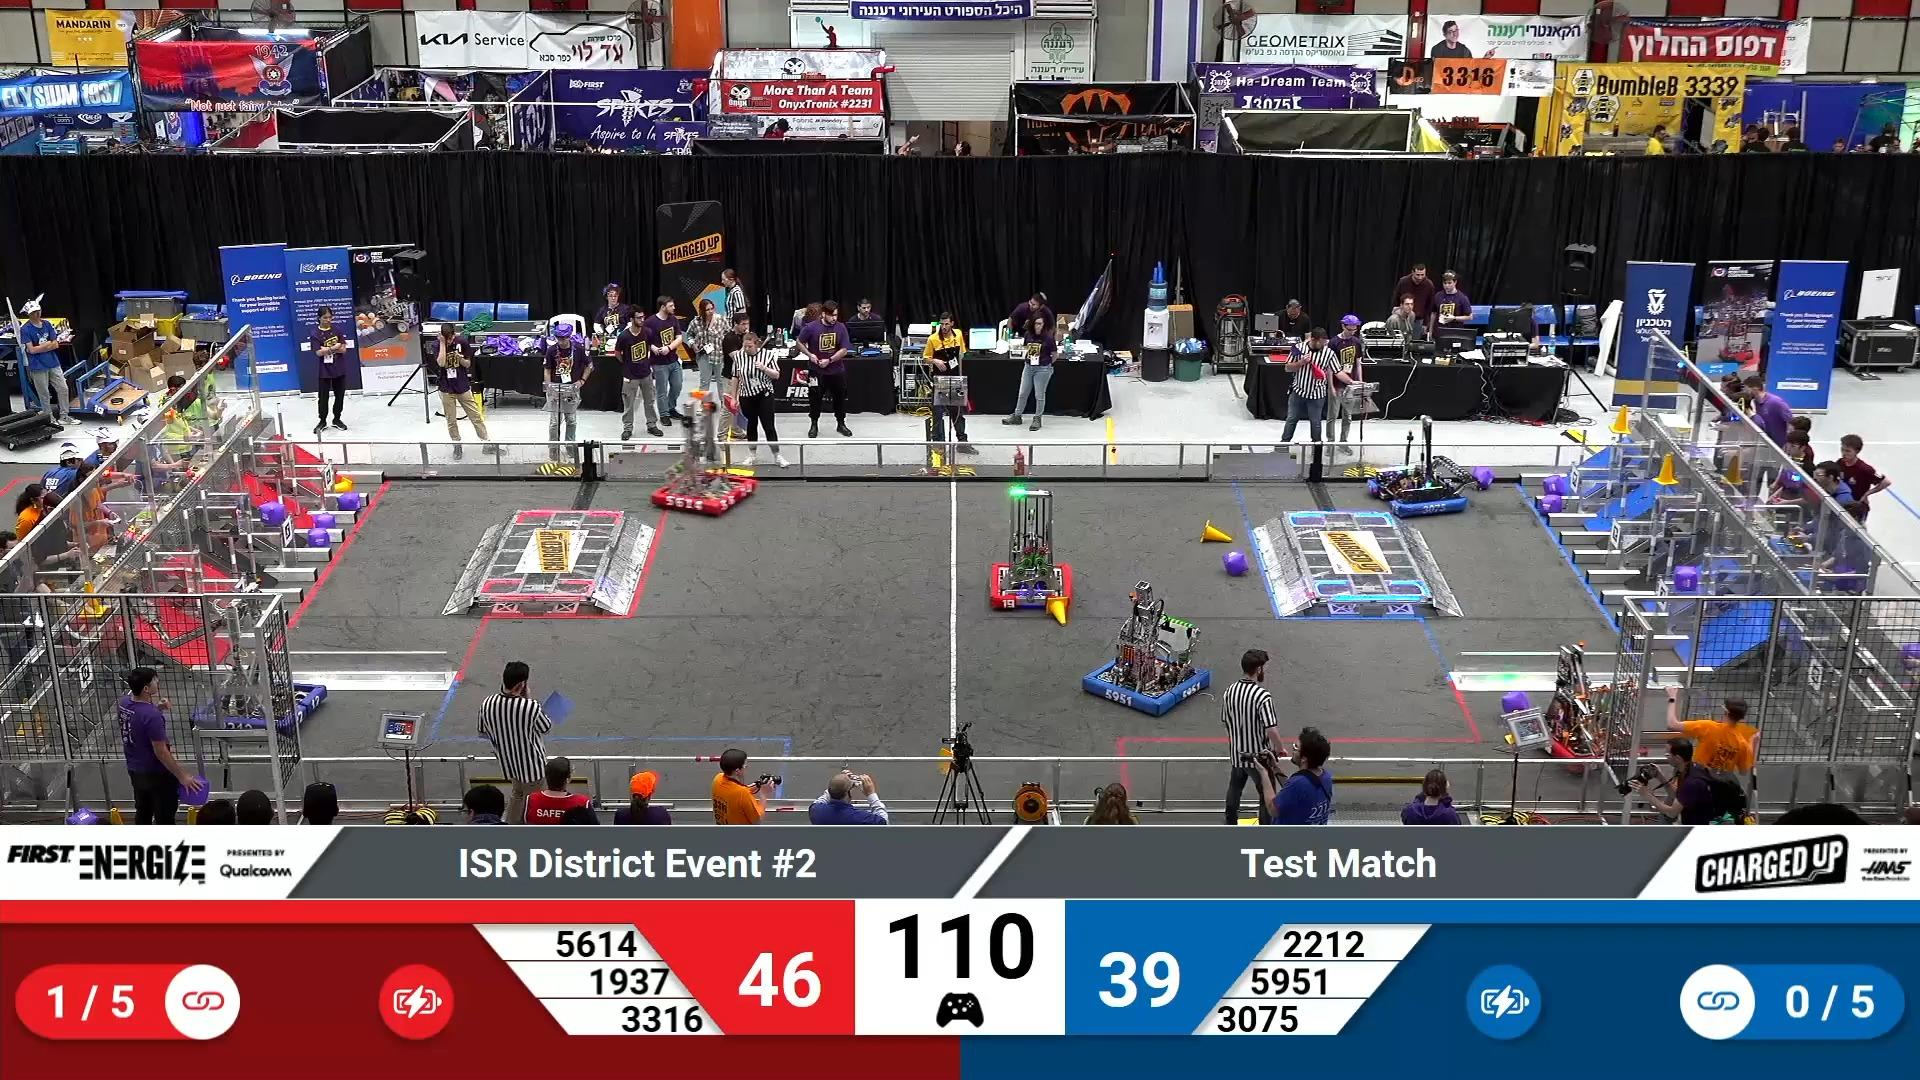robot: (137, 607, 326, 733), (1080, 582, 1212, 717), (1522, 641, 1650, 771), (647, 388, 760, 516), (1364, 413, 1476, 517), (986, 484, 1075, 615)
